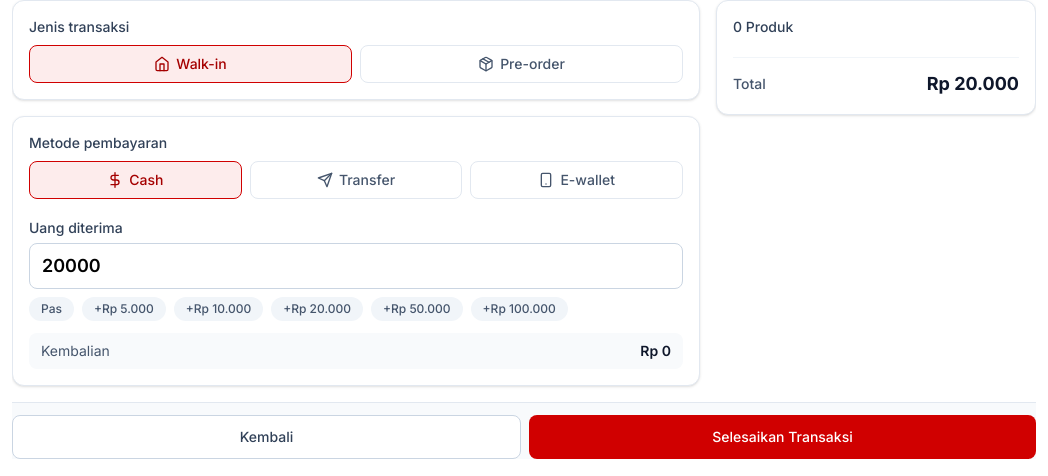
Scenario: PaymentPanel › tombol quick-amount nambah ke subtotal (bukan ganti angka mentah)
Click the button "+Rp 50.000": point(417, 309) [371,297,463,321]
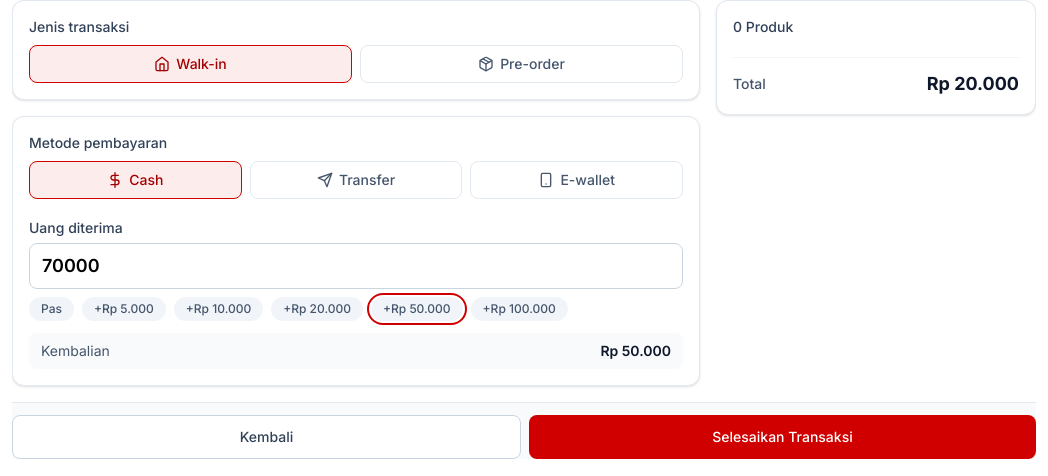
Expected: the number field labelled "Uang diterima" holds "70000", [29,243,683,289]
